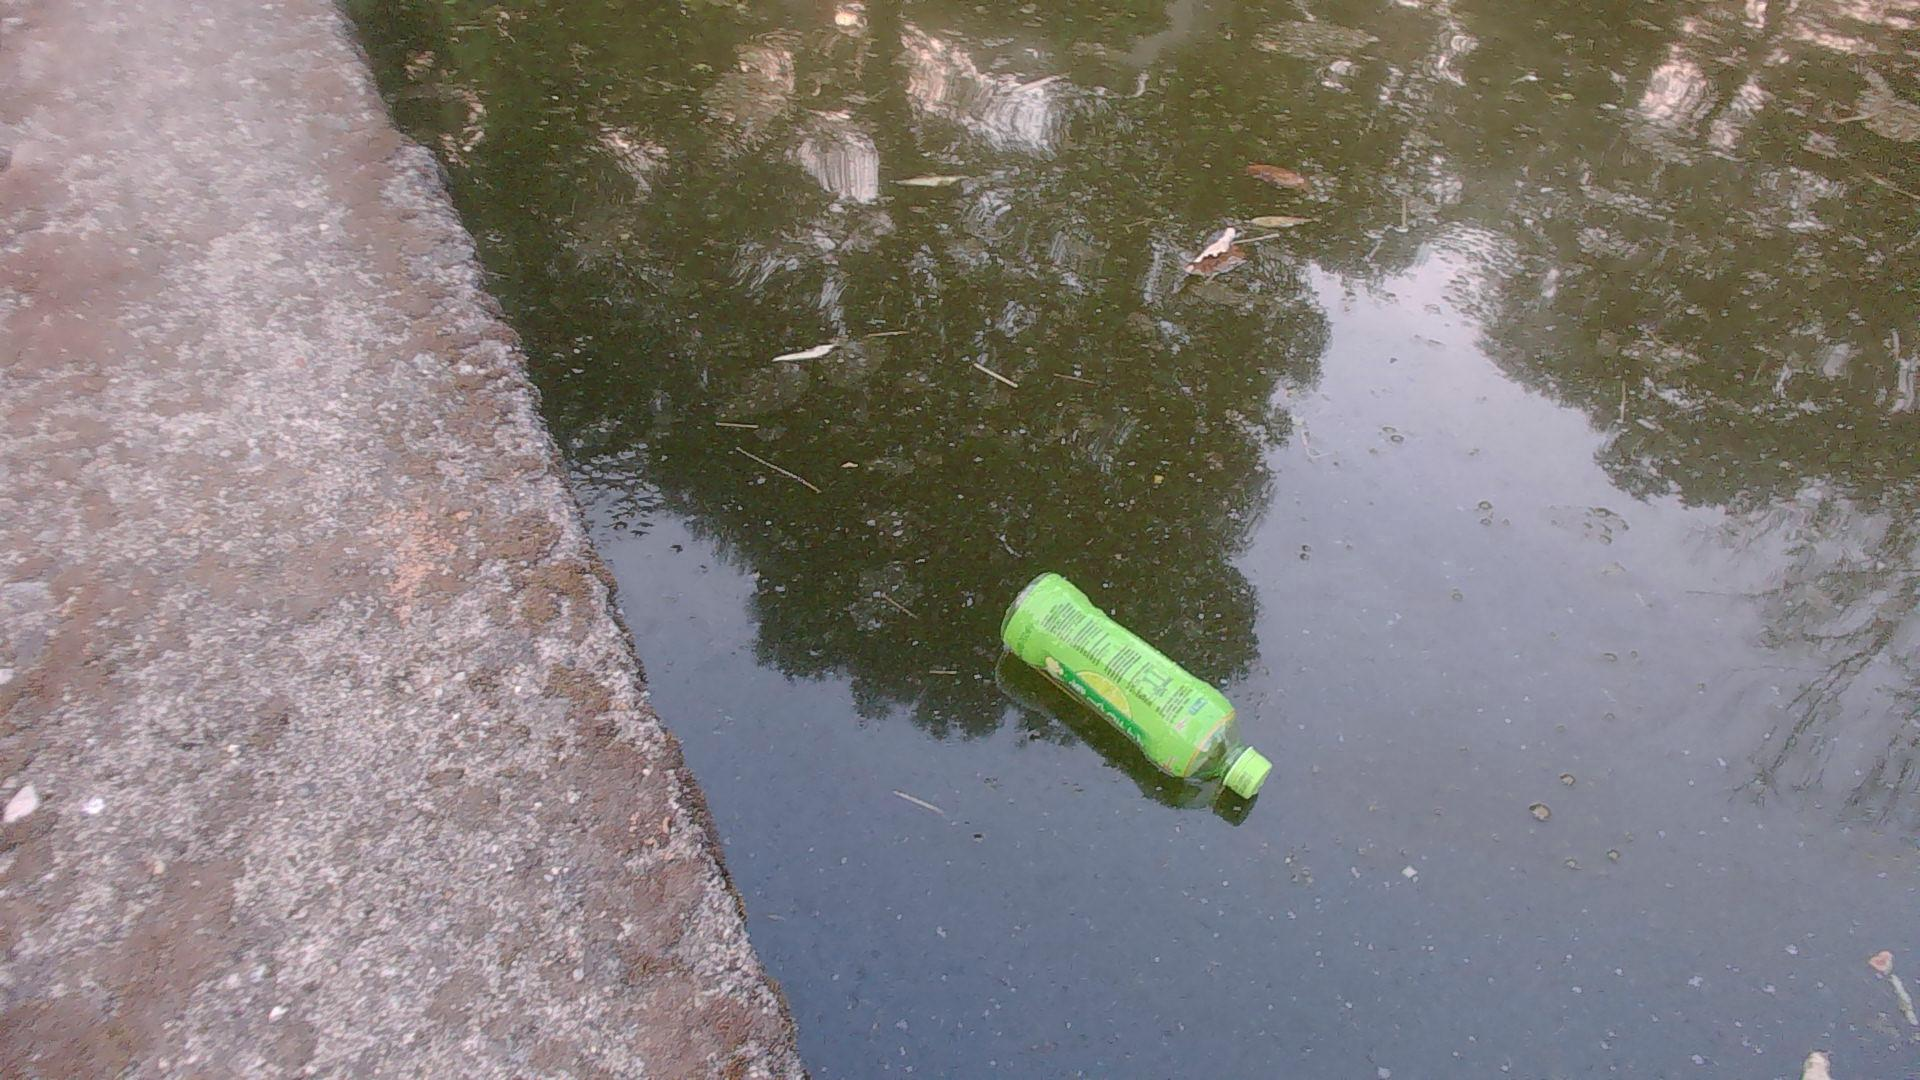Plastic: (992, 560, 1282, 800)
